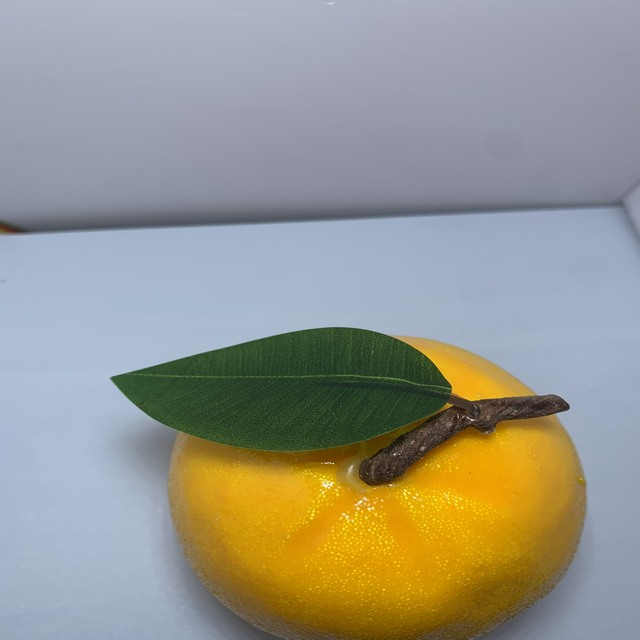Cam vang: (169, 326, 593, 640)
